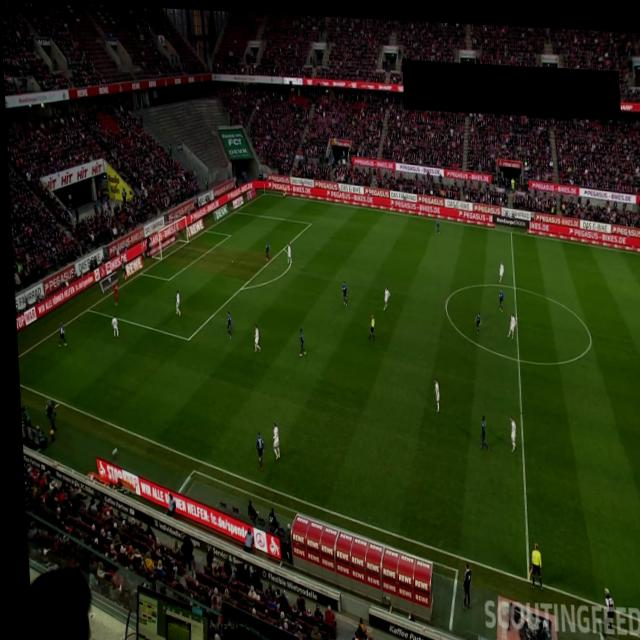goalkeeper: (109, 279, 116, 305)
player: (251, 428, 261, 468), (267, 419, 276, 458), (475, 409, 484, 447), (504, 410, 513, 446), (53, 320, 64, 347), (503, 308, 514, 334), (294, 324, 303, 353), (249, 320, 257, 350), (430, 373, 437, 407), (379, 282, 388, 307), (171, 287, 178, 314), (339, 276, 346, 303), (471, 307, 479, 330), (223, 309, 229, 339), (495, 283, 502, 306), (496, 256, 503, 279), (108, 314, 115, 337), (284, 240, 290, 263), (262, 237, 268, 259), (433, 214, 438, 230)
referee: (523, 536, 537, 585), (364, 308, 373, 339), (280, 178, 285, 196)
